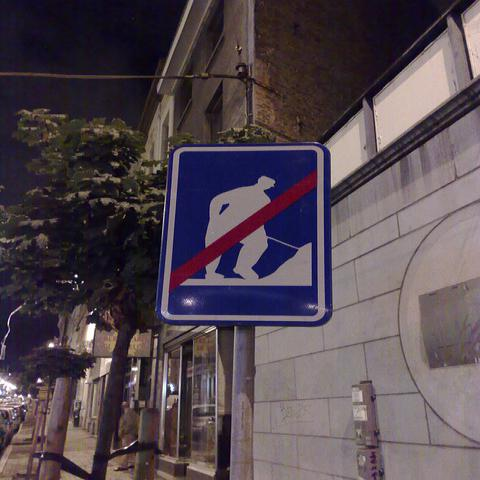car: (0, 408, 19, 450), (20, 404, 26, 410)
